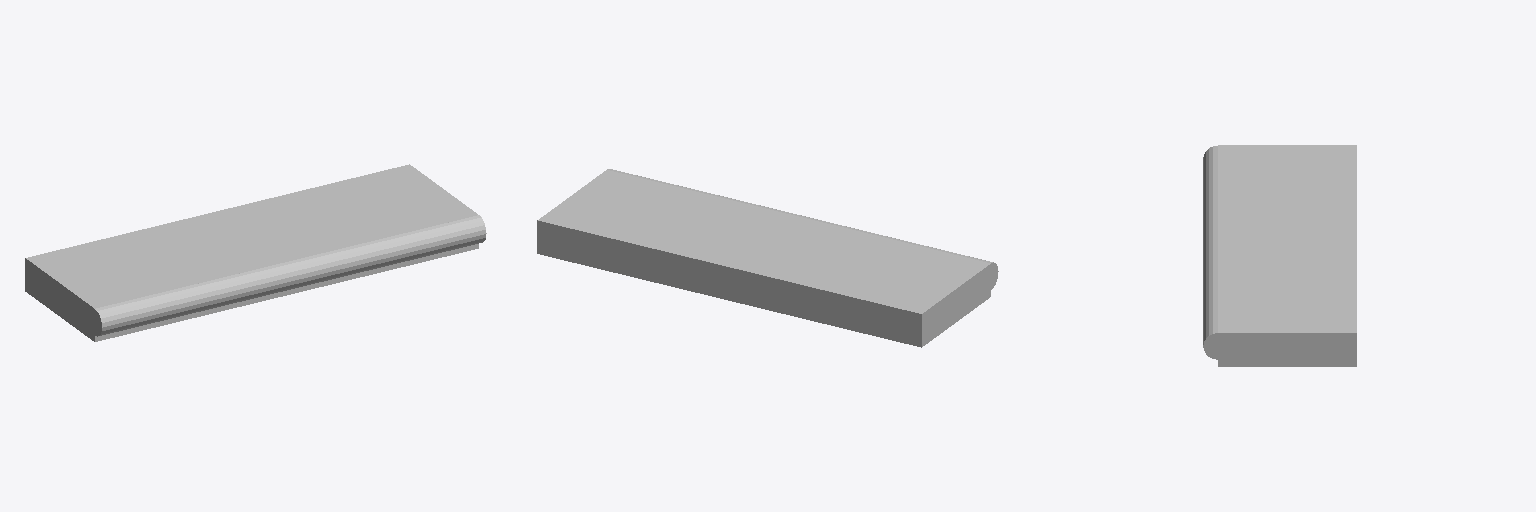
File: banister_uv.obj
The picture shows the model from 3 angles: view 1: azimuth 30°, elevation 25°; view 2: azimuth 150°, elevation 25°; view 3: azimuth 270°, elevation 25°; orthographic projection.
Parts seen in each view (by area): view 1: banister:banister banister:banister_body banister:polySurface1, banister:banister banister:banister_edge banister:polySurface1; view 2: banister:banister banister:banister_body banister:polySurface1, banister:banister banister:banister_edge banister:polySurface1; view 3: banister:banister banister:banister_body banister:polySurface1, banister:banister banister:banister_edge banister:polySurface1.
Boxes of the visible parts, <box> form: banister:banister banister:banister_body banister:polySurface1: <box>25,164,478,341</box>; banister:banister banister:banister_edge banister:polySurface1: <box>95,215,486,336</box>; banister:banister banister:banister_body banister:polySurface1: <box>537,170,990,347</box>; banister:banister banister:banister_edge banister:polySurface1: <box>607,169,998,290</box>; banister:banister banister:banister_body banister:polySurface1: <box>1218,145,1356,366</box>; banister:banister banister:banister_edge banister:polySurface1: <box>1203,146,1232,359</box>.
Bounding box in the file's own units: 120 × 10 × 41.5.